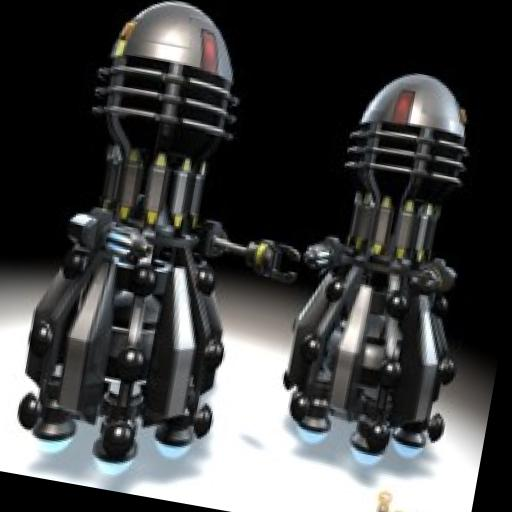dalek: (3, 0, 340, 495), (266, 57, 506, 478)
